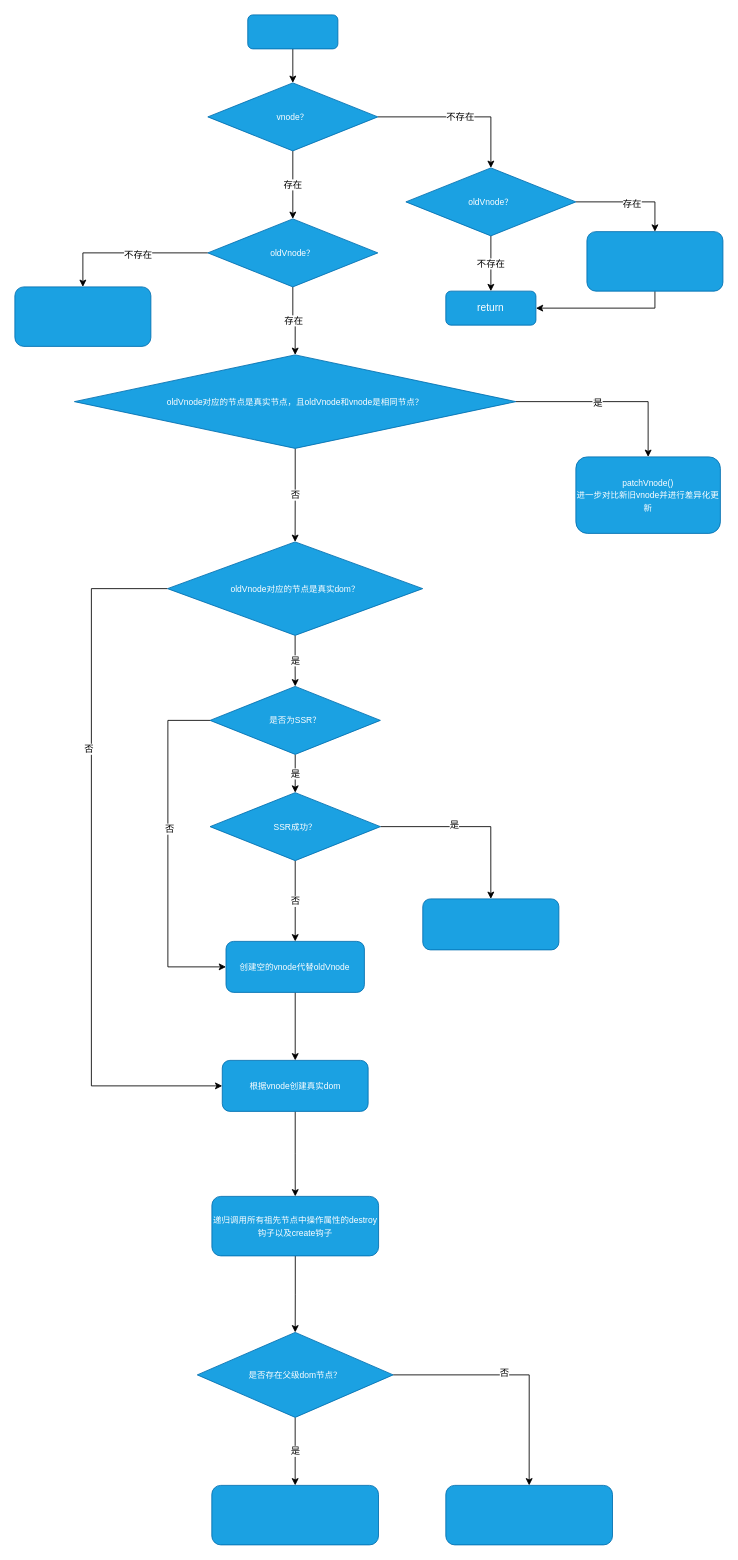
Image size: 738x1560. Some labels were removed from this diagram. The box of each missing label's shape, as (x1, y1, x2, y2) in pixels:
createElm() 根据vnode创建真实dom: (14, 286, 151, 346)
patch: (247, 14, 338, 49)
从父级节点中递归销毁oldVnode对应节点的dom: (211, 1485, 379, 1545)
调用vnode的insert钩子，并返回oldVnode: (422, 898, 559, 950)
递归调用oldVnode节点的destroy钩子销毁dom: (445, 1485, 613, 1545)
递归调用oldVnode节点的属性destroy钩子函数: (586, 231, 723, 291)
